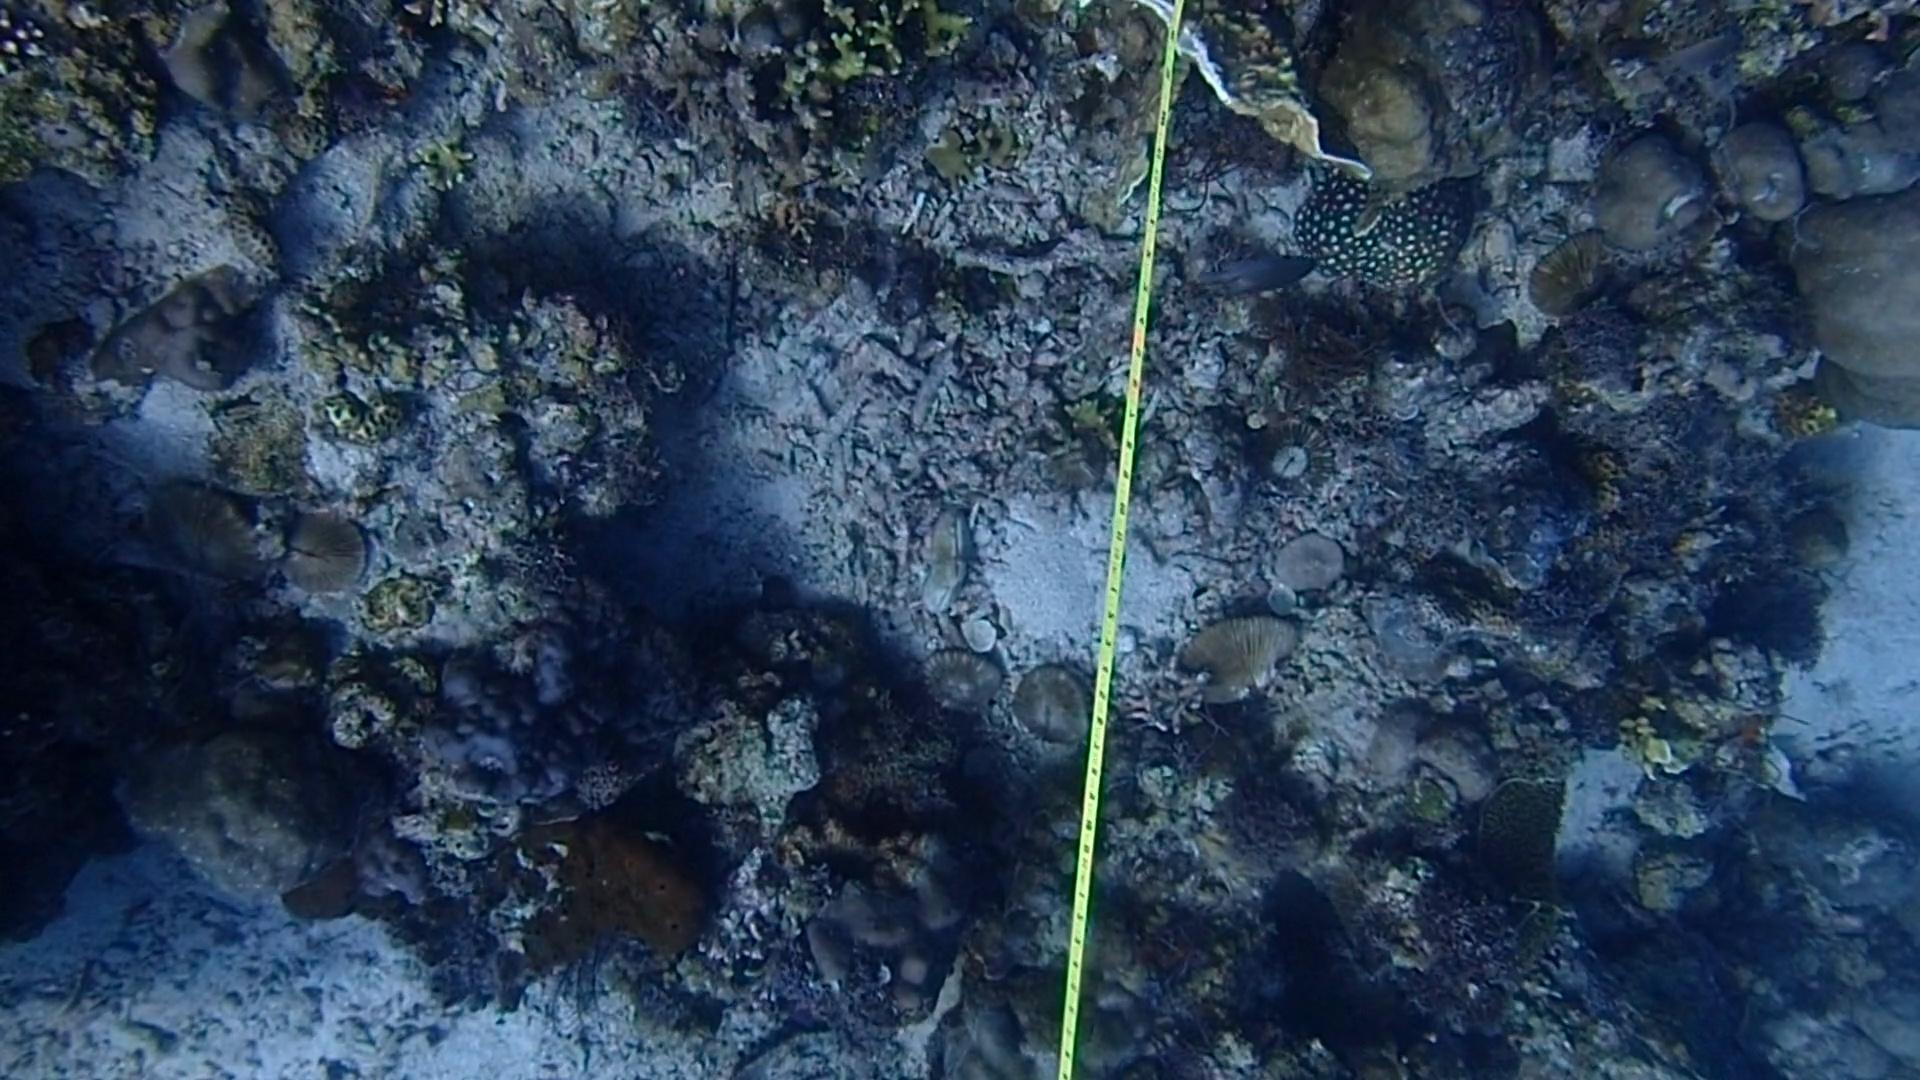Light Fish: (1203, 236, 1316, 310)
